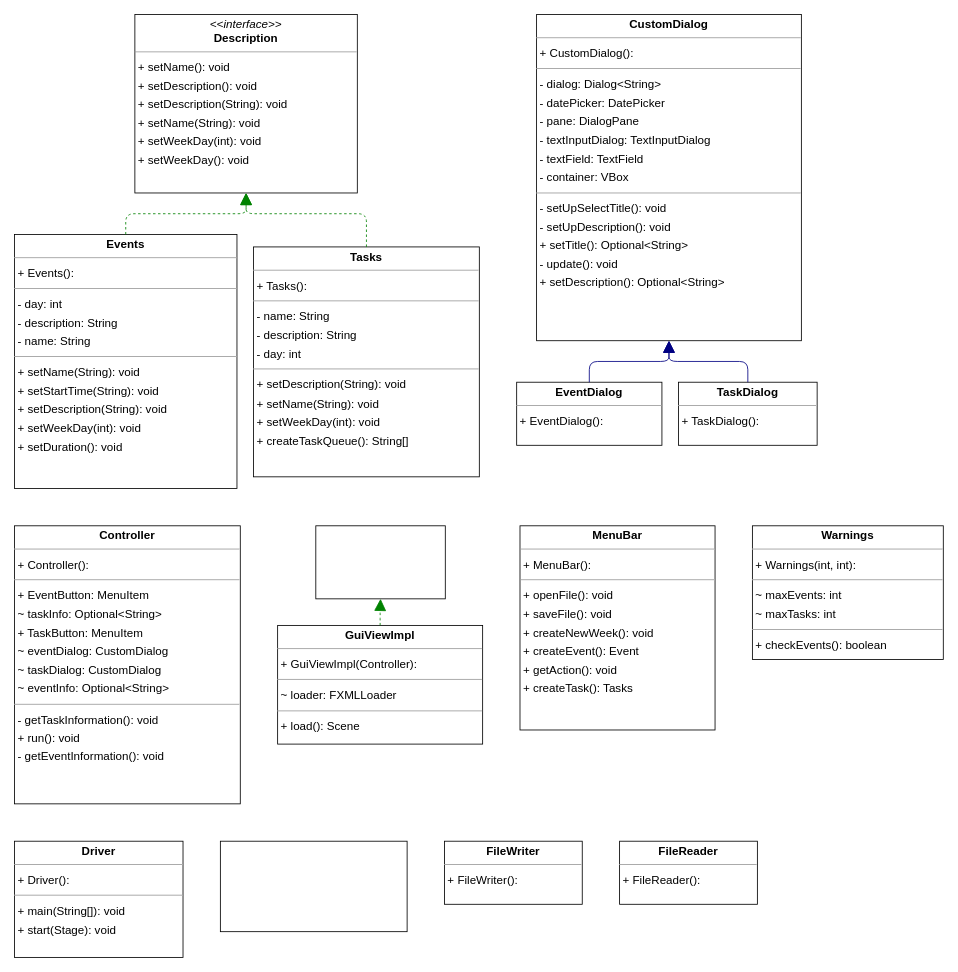
Some shapes in this 958 by 972 pixel diagram are drawn without their labels. Each missing label, with the centre of its shape:
"<<interface>> GuiView + load(): Scene" belongs at (380,562).
"FileCopyAndSave + FileCopyAndSave(): + copyFile(): void" belongs at (313,886).
